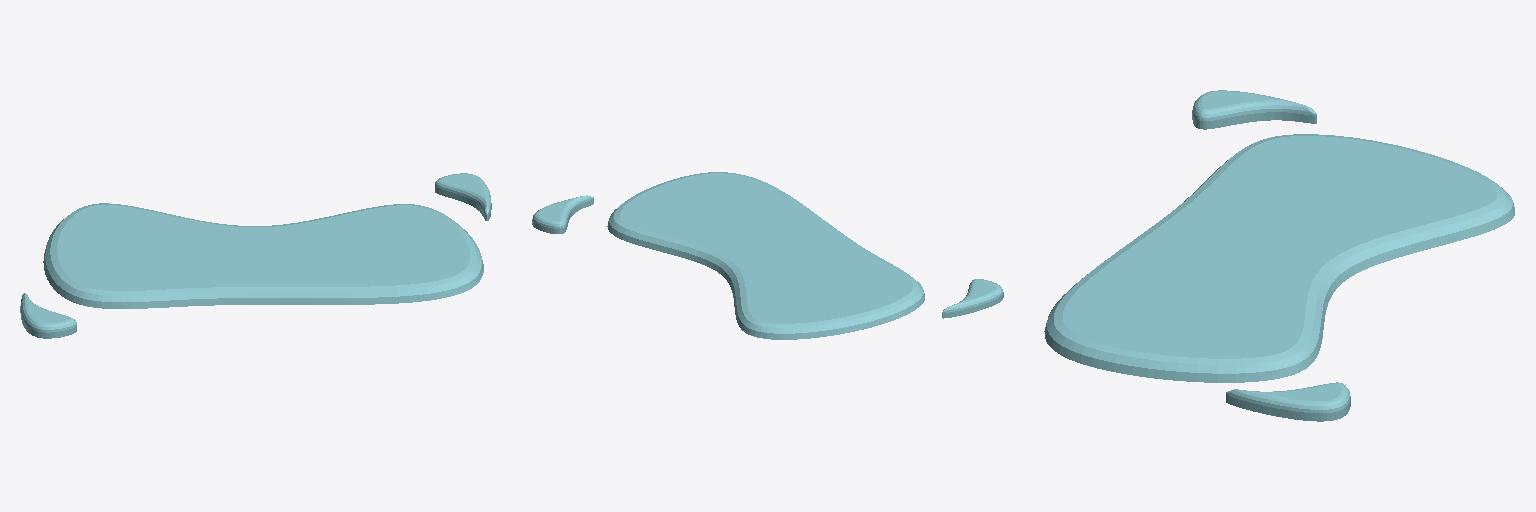
URDF robot description (box.SLDPRT):
<?xml version="1.0" encoding="utf-8"?>
<!-- This URDF was automatically created by SolidWorks to URDF Exporter! Originally created by [author] ([email redacted]) 
     Commit Version: 1.5.1-0-g916b5db  Build Version: 1.5.7152.31018
     For more information, please see http://wiki.ros.org/sw_urdf_exporter -->
<robot
  name="box.SLDPRT">
  <link
    name="box.SLDPRT">
    <inertial>
      <origin
        xyz="1.2996E-17 1.20353843572399E-16 0.16926"
        rpy="0 0 0" />
      <mass
        value="0" />
      <inertia
        ixx="1.73042"
        ixy="-1.2824E-17"
        ixz="-2.8299E-17"
        iyy="1.73042"
        iyz="2.85579897269348E-17"
        izz="1.0053" />
    </inertial>
    <visual>
      <origin
        xyz="0 0 0"
        rpy="1.5707963267949 0 0" />
      <geometry>
        <mesh
          filename="models/meshes/liquid/liquid.STL" scale="10 10 10"/>
      </geometry>
      <material
        name="">
        <color
          rgba="0.6117 0.82745 0.858823 0.5" />
      </material>
    </visual>
    <collision>
      <origin
        xyz="0 0 0"
        rpy="1.5707963267949 0 0" />
      <geometry>
        <mesh
          filename="models/meshes/liquid/liquid.STL" scale="10 10 10"/>
      </geometry>
    </collision>
  </link>
</robot>

--- Facts derived from the render (not from the file) ---
3 views of the same robot in one strip: view 1: azimuth 30°, elevation 25°; view 2: azimuth 150°, elevation 25°; view 3: azimuth 270°, elevation 25° (orthographic).
Model box.SLDPRT with 1 links and 0 joints (none), rooted at box.SLDPRT, posed all joints at 0.
Visible links, largest first — view 1: box.SLDPRT; view 2: box.SLDPRT; view 3: box.SLDPRT.
Link boxes in pixels (box(x1,y1,x2,y2)): box.SLDPRT: box(20, 173, 491, 338); box.SLDPRT: box(532, 172, 1003, 339); box.SLDPRT: box(1044, 90, 1514, 421).
Bounding box of the posed robot: 0.8285 × 0.5191 × 0.02 m (x, y, z).
Meshes: 1 distinct files referenced, 1 mesh visuals loaded (1 binary STL).